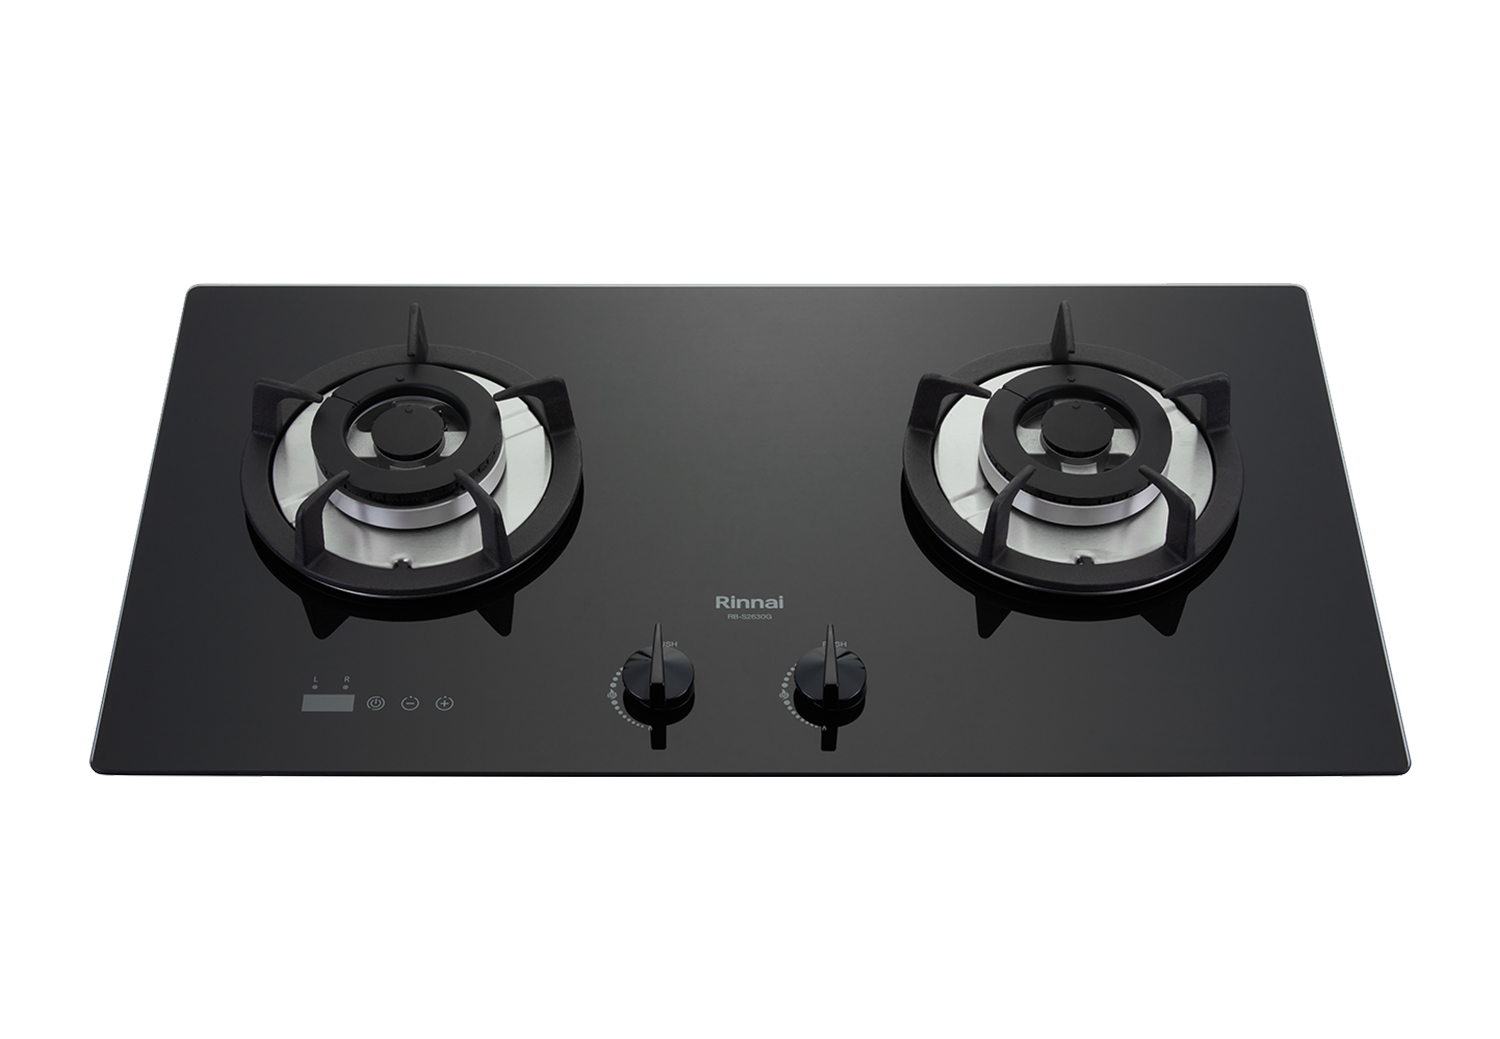gasoven: (85, 273, 1429, 794)
